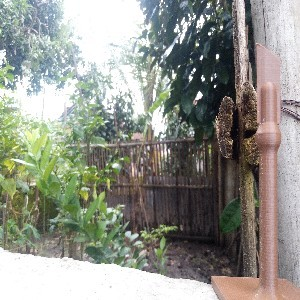cutter: (253, 41, 283, 300)
